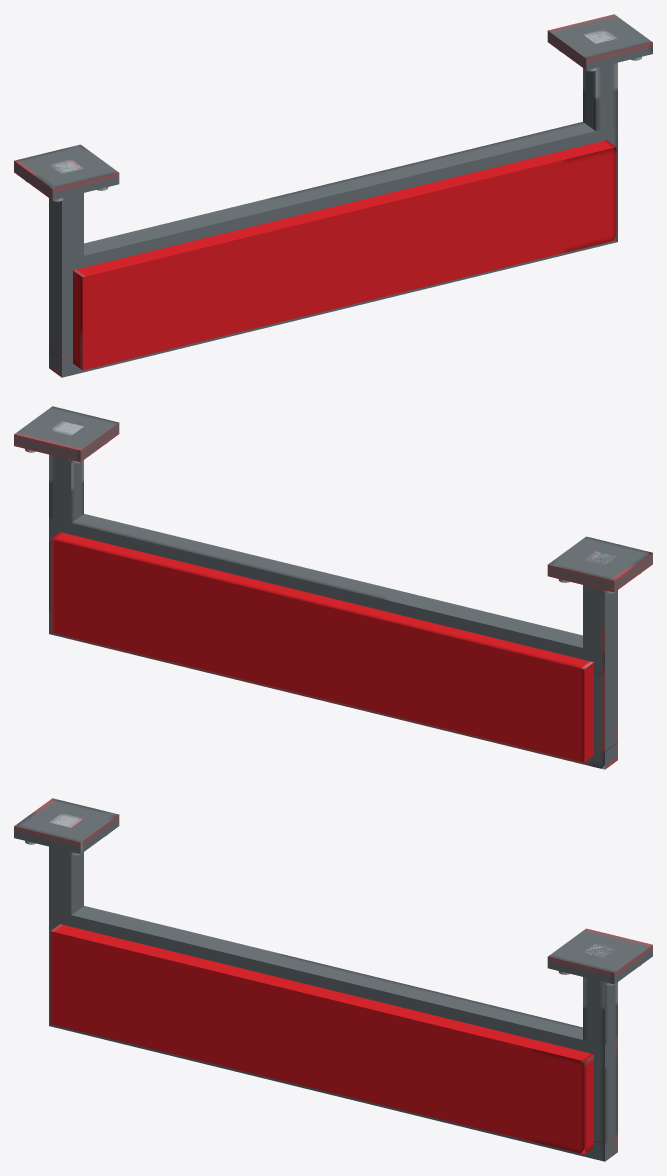
The model's file is nl_station_sign_hanging_rnet.obj.
3 renders of one model, top to bottom at view 1: azimuth 30°, elevation 25°; view 2: azimuth 150°, elevation 25°; view 3: azimuth 330°, elevation 25°, orthographic.
Parts seen in each view (by area): view 1: sign_back, pole_top, pole_right, foot_right, foot_left, pole_left; view 2: sign_front, pole_top, pole_right, foot_right, foot_left, pole_left; view 3: sign_back, pole_top, pole_left, foot_left, foot_right, pole_right.
Part boxes in pixels (box(x1,y1,x2,y2)): sign_back: box(73, 140, 616, 370); pole_top: box(49, 122, 617, 377); pole_right: box(49, 159, 83, 360); foot_right: box(14, 144, 119, 200); foot_left: box(547, 14, 652, 70); pole_left: box(583, 30, 617, 222); sign_front: box(50, 532, 593, 762); pole_top: box(49, 514, 617, 769); pole_right: box(583, 551, 617, 752); foot_right: box(547, 536, 652, 592); foot_left: box(14, 406, 119, 462); pole_left: box(49, 421, 83, 612); sign_back: box(50, 924, 593, 1154); pole_top: box(49, 906, 617, 1161); pole_left: box(583, 943, 617, 1143); foot_left: box(547, 928, 652, 984); foot_right: box(14, 798, 119, 854); pole_right: box(49, 813, 83, 1008).
Size of the model in its own units: 3.38 by 1.09 by 0.375.
Materials: 1 (1 with a texture image).
